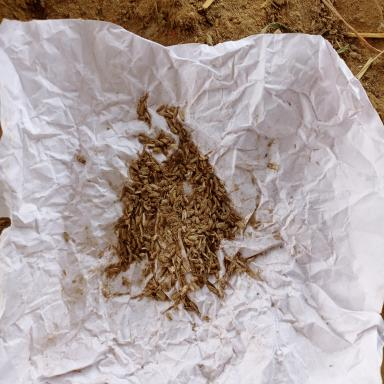pbw: (164, 231, 174, 245), (267, 162, 280, 172), (190, 301, 200, 314), (212, 193, 220, 209), (213, 255, 221, 270), (207, 284, 219, 294), (144, 191, 161, 198), (129, 167, 138, 180), (180, 127, 188, 141), (237, 220, 247, 231), (132, 253, 142, 264), (150, 276, 159, 288), (182, 261, 191, 273), (202, 269, 209, 284), (141, 201, 151, 211), (179, 284, 189, 294), (158, 255, 169, 264), (108, 266, 119, 275), (121, 276, 130, 287), (154, 240, 161, 254), (171, 290, 180, 300), (178, 164, 187, 174), (168, 184, 177, 194), (134, 186, 144, 195), (139, 93, 149, 102), (151, 164, 162, 172), (138, 135, 150, 142), (189, 157, 201, 164), (168, 161, 175, 173), (184, 171, 193, 180), (184, 238, 194, 246), (154, 139, 164, 147), (166, 216, 176, 224), (184, 146, 192, 156), (76, 156, 86, 164), (188, 200, 196, 210), (150, 183, 160, 191), (212, 176, 217, 192), (121, 228, 127, 241), (171, 191, 177, 204), (180, 208, 186, 221), (173, 107, 179, 120), (152, 146, 163, 153), (179, 110, 185, 122), (237, 258, 246, 266), (150, 234, 159, 242), (146, 282, 155, 290), (128, 252, 134, 264), (192, 282, 200, 291), (216, 186, 226, 193), (182, 193, 189, 203), (166, 312, 173, 322), (188, 256, 198, 263), (186, 164, 196, 171), (168, 274, 173, 288), (162, 112, 172, 119), (134, 205, 140, 216), (156, 129, 162, 140), (168, 143, 179, 149), (198, 151, 206, 159), (156, 104, 164, 112), (142, 210, 146, 226), (144, 184, 152, 192), (170, 125, 178, 133), (130, 163, 139, 170), (128, 193, 137, 200), (170, 248, 177, 257), (161, 146, 168, 155), (157, 179, 164, 188), (161, 199, 170, 206), (194, 204, 199, 216), (207, 219, 212, 231), (145, 264, 150, 276), (207, 198, 212, 210), (225, 204, 230, 216), (126, 245, 132, 255), (137, 174, 147, 180), (192, 186, 202, 192), (216, 222, 226, 228), (188, 234, 198, 240), (167, 175, 177, 181), (224, 255, 232, 262), (146, 250, 150, 264), (202, 253, 210, 260), (126, 184, 134, 191), (190, 226, 198, 233), (234, 214, 242, 221), (195, 173, 203, 180), (194, 214, 200, 223), (176, 254, 182, 263), (167, 265, 176, 271), (140, 103, 144, 116), (145, 161, 155, 166), (232, 226, 238, 234), (160, 138, 168, 144), (172, 274, 176, 286), (175, 124, 181, 132), (198, 256, 204, 264), (198, 238, 202, 250), (180, 225, 186, 233), (139, 223, 143, 235), (138, 252, 146, 258), (147, 143, 156, 147), (163, 252, 170, 257), (202, 180, 206, 188), (132, 230, 138, 234)
